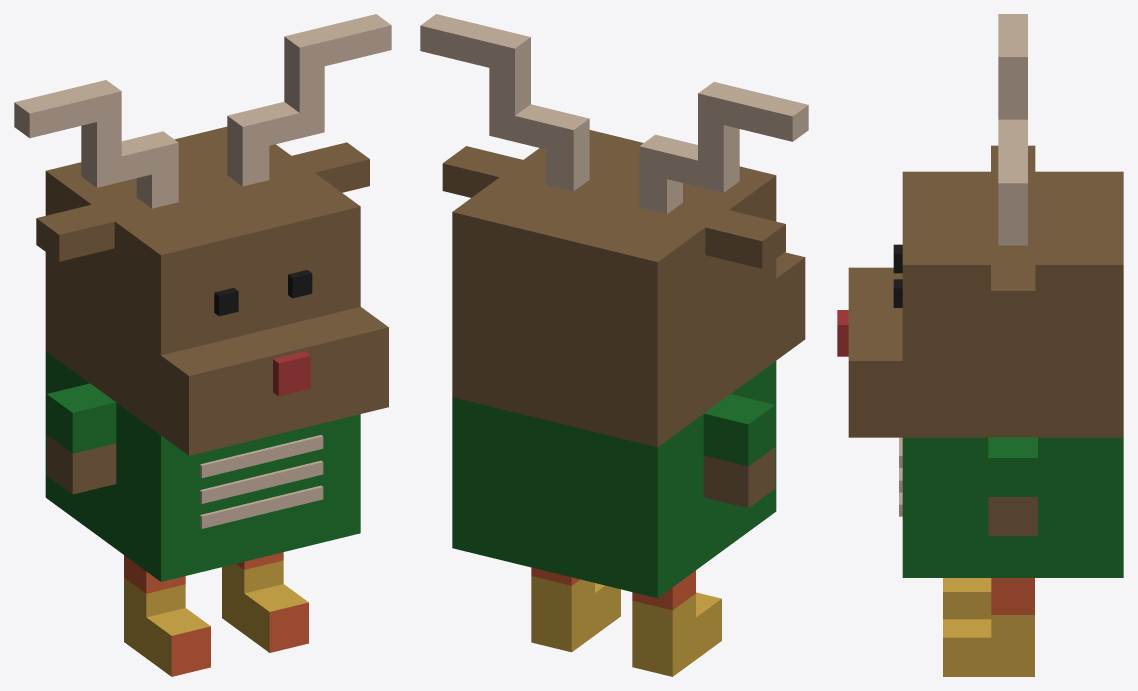
Rendered from 065 Deer.fbx.
3 renders of one model, left to right at view 1: azimuth 30°, elevation 25°; view 2: azimuth 150°, elevation 25°; view 3: azimuth 270°, elevation 25°, orthographic. The views are drawn at different scales.
Visible parts, largest first — view 1: Lowpoly_Christmas_Pack_065:pCube16; view 2: Lowpoly_Christmas_Pack_065:pCube16; view 3: Lowpoly_Christmas_Pack_065:pCube16.
Part boxes in pixels (x1,y1,x2,y2): Lowpoly_Christmas_Pack_065:pCube16: (14, 14, 391, 676); Lowpoly_Christmas_Pack_065:pCube16: (420, 14, 808, 676); Lowpoly_Christmas_Pack_065:pCube16: (837, 14, 1123, 676).
Bounding box in the file's own units: 1.81 × 2.73 × 1.3.
